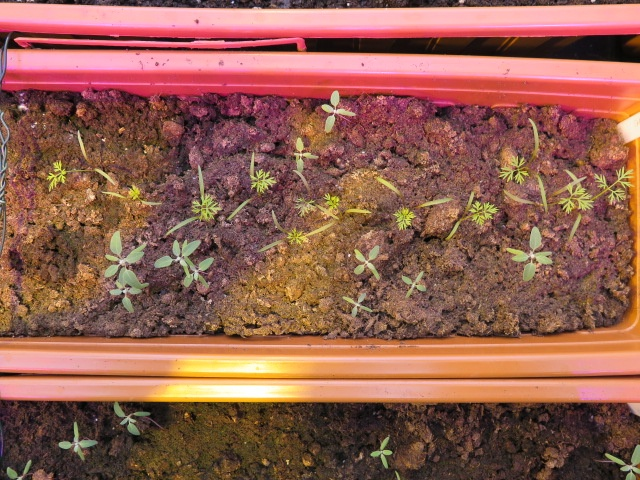weed: (493, 120, 562, 209), (152, 232, 224, 297), (290, 165, 368, 223), (377, 170, 451, 229), (41, 133, 115, 185), (229, 153, 280, 226), (108, 231, 148, 313), (503, 222, 554, 285), (446, 186, 496, 247), (254, 223, 344, 254), (54, 416, 101, 462), (318, 84, 357, 138), (112, 397, 154, 435), (99, 183, 159, 208), (352, 239, 381, 282), (339, 288, 374, 321), (367, 431, 394, 471), (398, 268, 427, 301)
